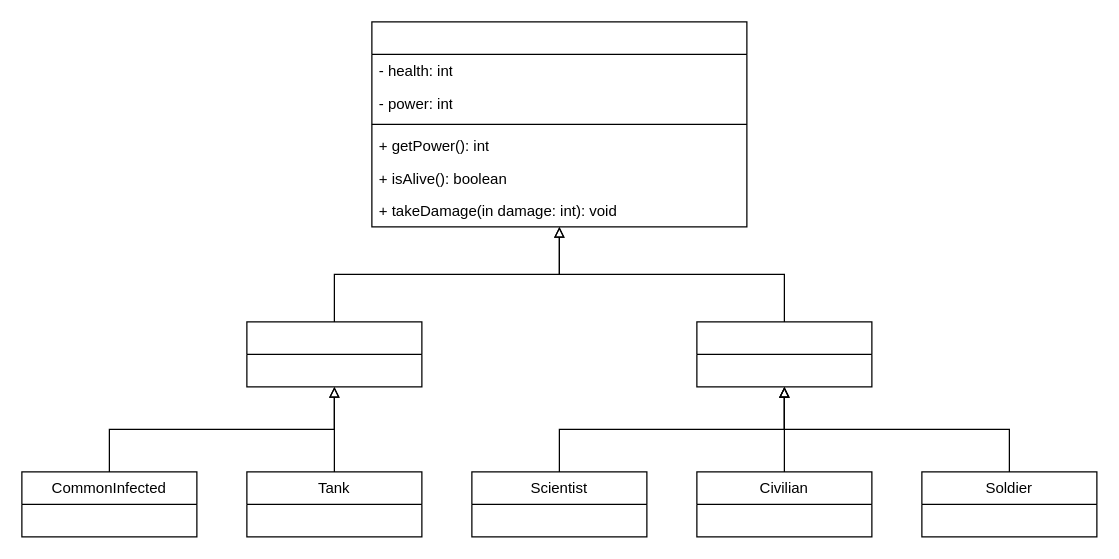
Some shapes in this 1119 by 559 pixel diagram are drawn without their labels. Each missing label, with the box of its shape:
Player: (371, 21, 747, 227)
Survivor: (696, 321, 872, 387)
Zombie: (246, 321, 422, 387)
